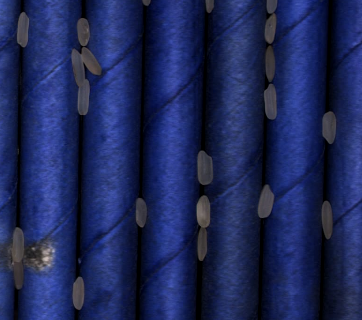broken_grain: (196, 148, 215, 187), (257, 181, 275, 222), (203, 1, 215, 14)
complete_grain: (263, 82, 280, 124), (320, 108, 338, 147), (319, 198, 335, 241), (70, 46, 86, 88), (74, 17, 94, 48), (15, 11, 30, 49), (77, 78, 92, 116), (261, 12, 277, 45), (264, 44, 277, 83), (71, 276, 85, 312), (135, 195, 148, 231), (11, 261, 26, 292), (12, 226, 25, 261), (196, 228, 209, 261)
milky_grain: (195, 194, 213, 230)
yellow_grain: (80, 45, 103, 79)
